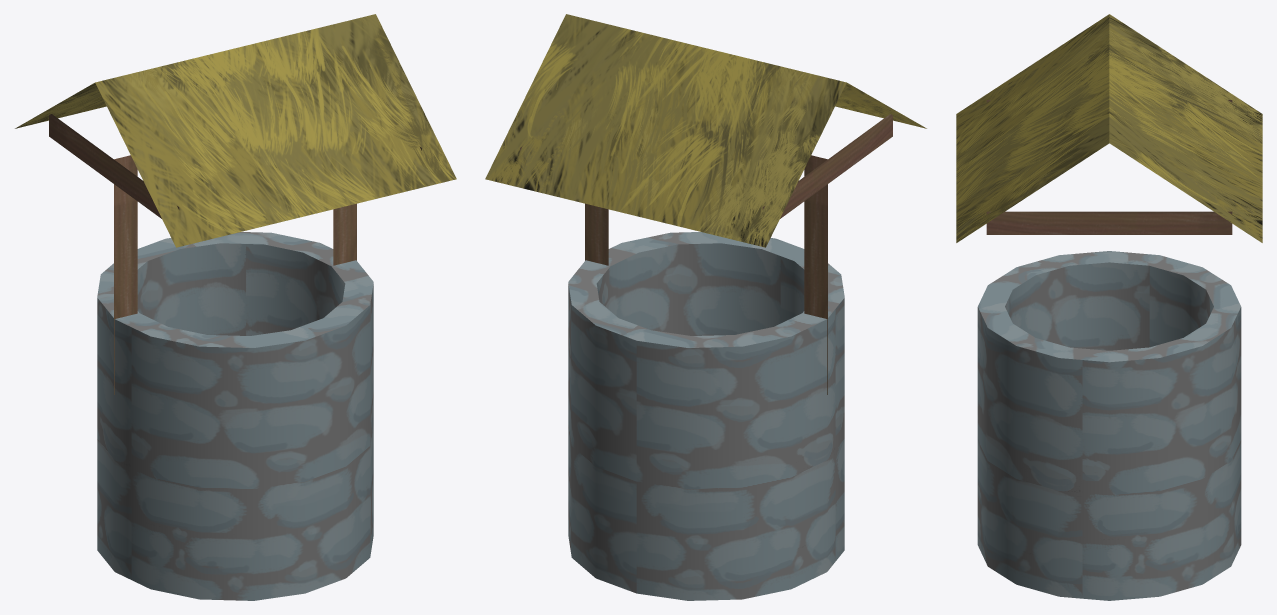
File: well.glb
3 renders of one model, left to right at view 1: azimuth 30°, elevation 25°; view 2: azimuth 150°, elevation 25°; view 3: azimuth 270°, elevation 25°, orthographic. The views are drawn at different scales.
Parts seen in each view (by area): view 1: Cylinder, Plane.001, Plane, Plane.002; view 2: Cylinder, Plane.001, Plane, Plane.002; view 3: Cylinder, Plane.001, Plane.002.
Boxes of the visible parts, <box> form: Cylinder: <box>97,232,373,600</box>; Plane.001: <box>15,14,456,247</box>; Plane: <box>114,155,356,394</box>; Plane.002: <box>49,114,421,218</box>; Cylinder: <box>568,232,844,600</box>; Plane.001: <box>485,14,926,247</box>; Plane: <box>585,155,827,394</box>; Plane.002: <box>520,114,892,218</box>; Cylinder: <box>977,251,1241,600</box>; Plane.001: <box>956,14,1262,242</box>; Plane.002: <box>986,100,1232,234</box>.
Size of the model in its own units: 2.32 by 3.91 by 2.32.
Materials: 3 (3 with a texture image).
